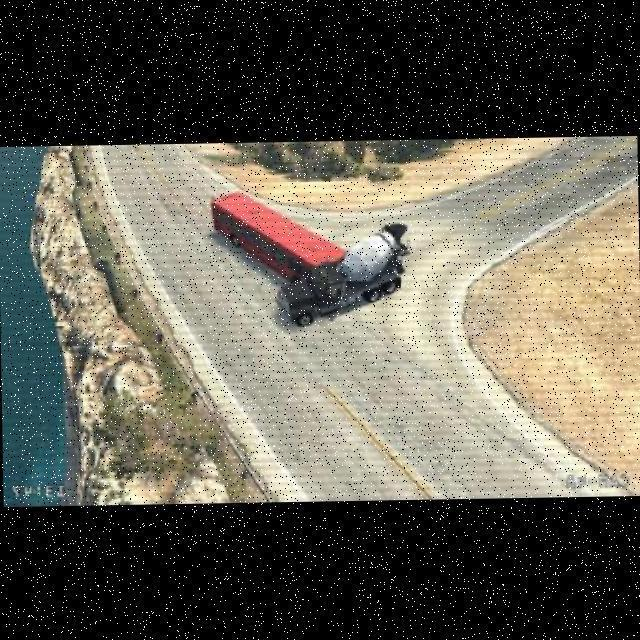accident: (251, 214, 413, 329)
